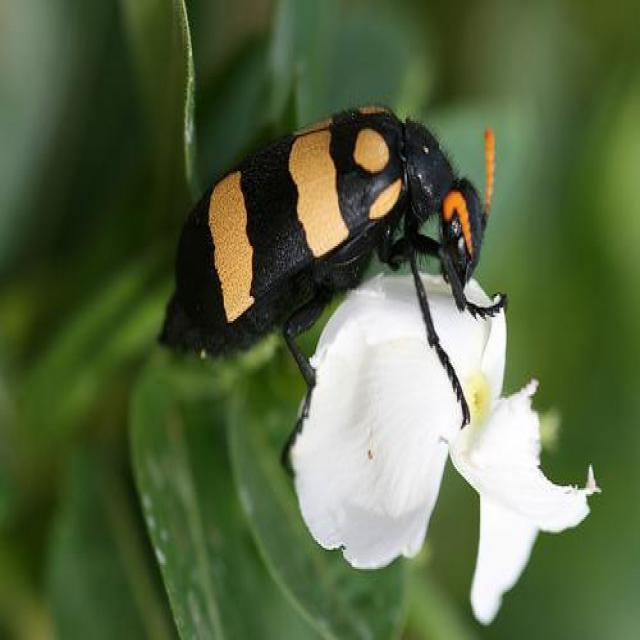BlisterBeetle-Adult-: (152, 100, 514, 447)
